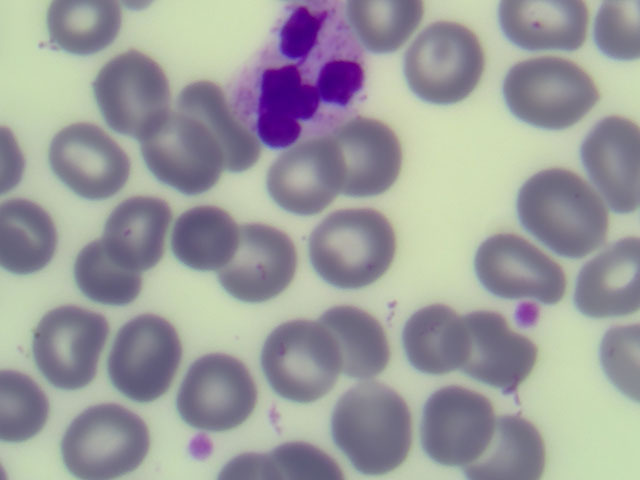Platelets: (182, 431, 214, 463), (515, 298, 546, 326)
RBC: (89, 45, 174, 138), (46, 113, 131, 206), (2, 191, 87, 284), (96, 179, 181, 272), (62, 237, 147, 330), (24, 301, 109, 394), (108, 312, 193, 405), (161, 193, 246, 286), (144, 110, 229, 203), (170, 75, 255, 168), (265, 132, 350, 225), (324, 115, 409, 208), (304, 195, 389, 288), (220, 216, 305, 309), (312, 292, 397, 385), (252, 315, 337, 408), (173, 342, 258, 435), (66, 386, 151, 479), (332, 380, 417, 473), (408, 383, 493, 476), (484, 384, 569, 477), (447, 307, 532, 400), (387, 286, 472, 379), (472, 213, 557, 306), (514, 168, 599, 261), (508, 51, 593, 144), (403, 14, 488, 107), (555, 229, 640, 322), (496, 1, 597, 60), (347, 1, 429, 47), (44, 1, 121, 47)
WBC: (229, 1, 375, 145)
